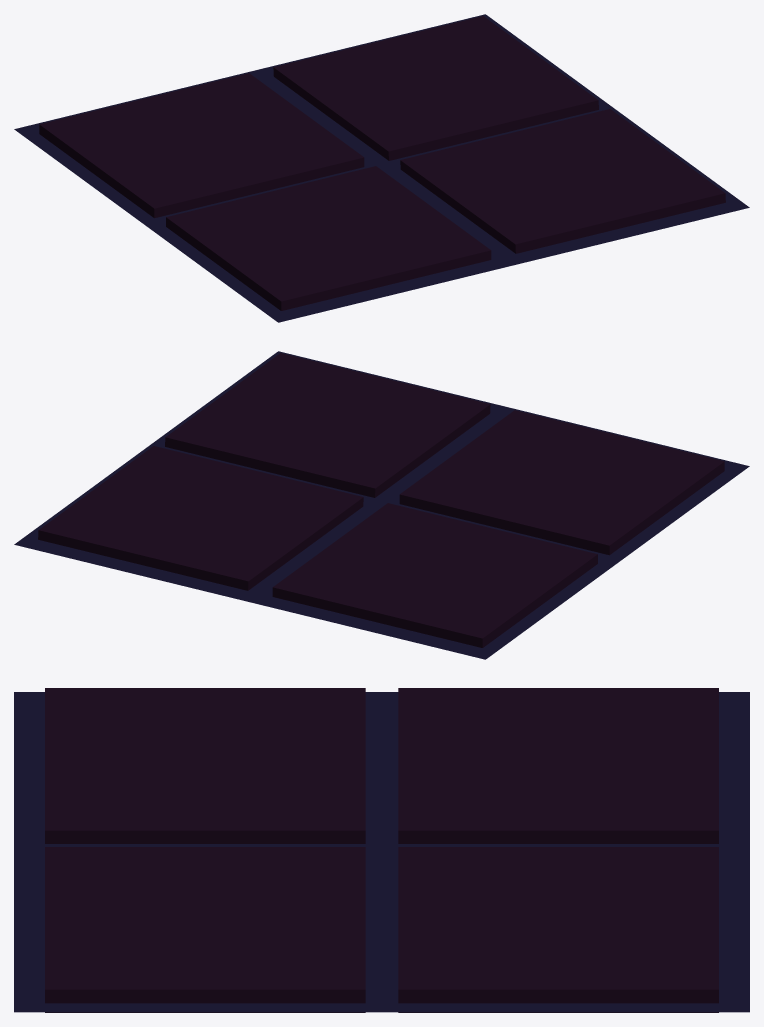
File: FloorTile_002.fbx
3 views of the same model, one above another, from view 1: azimuth 30°, elevation 25°; view 2: azimuth 150°, elevation 25°; view 3: azimuth 270°, elevation 25° (orthographic). The views are drawn at different scales.
Parts seen in each view (by area): view 1: Plane.001; view 2: Plane.001; view 3: Plane.001.
Boxes of the visible parts, bbox=[...] form: Plane.001: bbox=[14, 14, 749, 322]; Plane.001: bbox=[14, 351, 749, 659]; Plane.001: bbox=[14, 688, 749, 1012].
Bounding box in the file's own units: 796 × 26.24 × 772.
